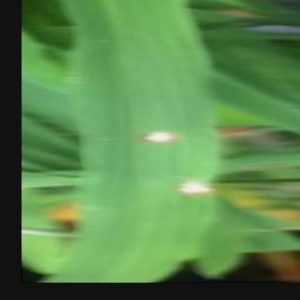Brown_Spot: (167, 174, 227, 216), (134, 112, 183, 154)
